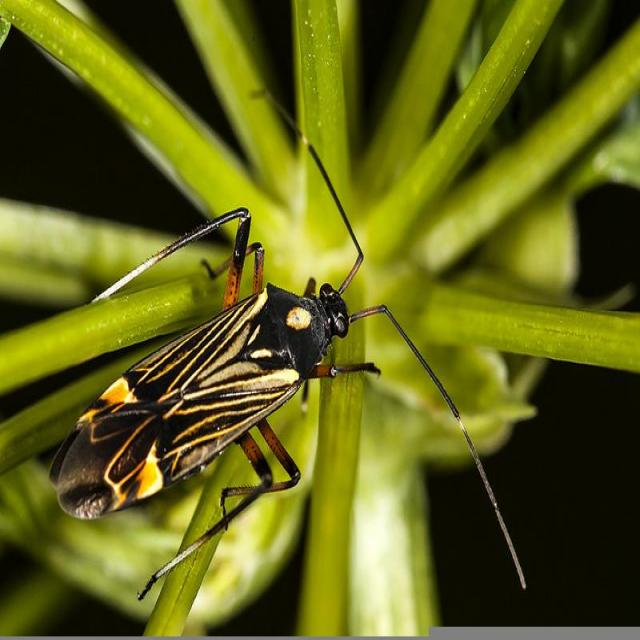Miridae-Adult-: (45, 132, 504, 566)
